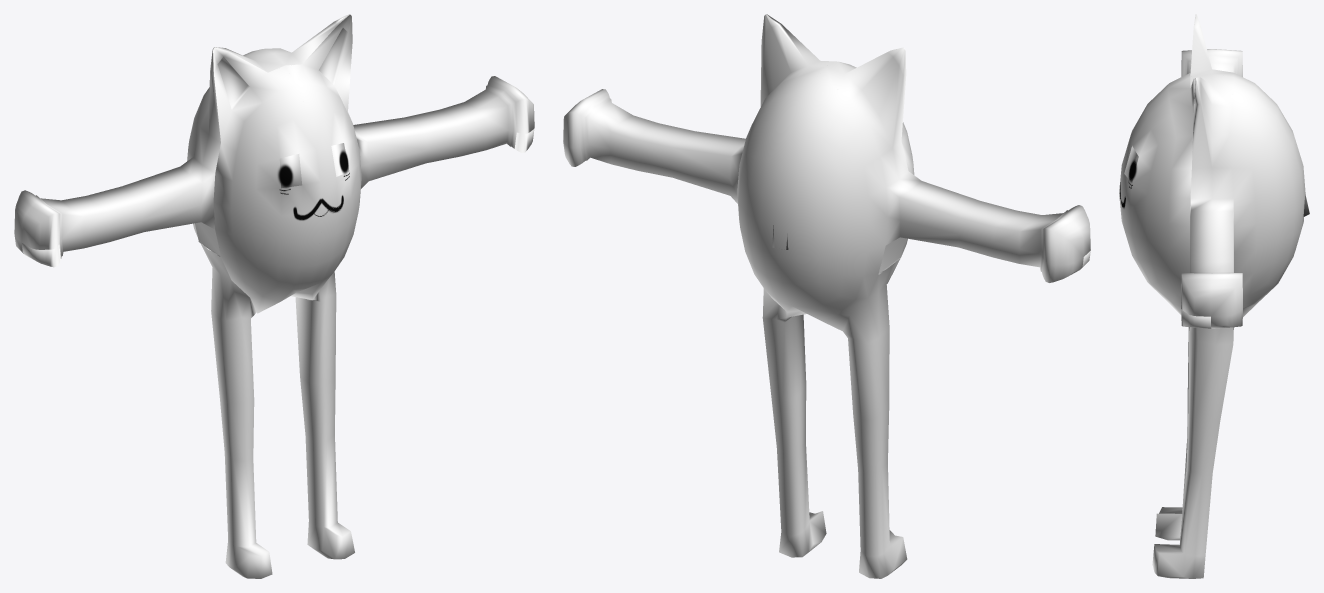
Rendered from OTAG4_9.fbx.
The picture shows the model from 3 angles, left to right: view 1: azimuth 30°, elevation 25°; view 2: azimuth 150°, elevation 25°; view 3: azimuth 270°, elevation 25°; orthographic projection. The views are drawn at different scales.
Parts seen in each view (by area): view 1: Vert.002; view 2: Vert.002; view 3: Vert.002.
Boxes of the visible parts, x1,y1,x2,y2 form: Vert.002: (14,14,534,578); Vert.002: (563,14,1090,578); Vert.002: (1119,14,1309,578).
Bounding box in the file's own units: 195 × 194 × 65.54.
Materials: 1 (1 with a texture image).
